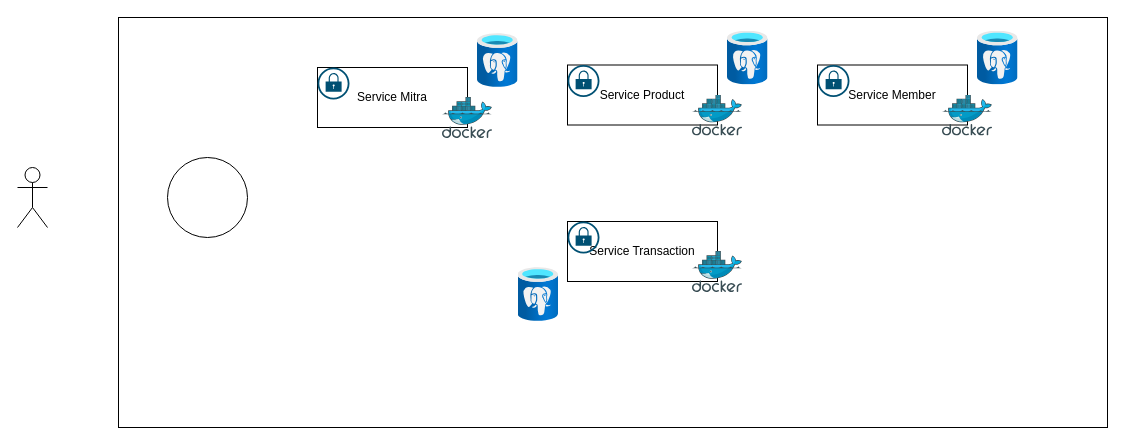
Some shapes in this 1125 by 445 pixel diagram are drawn without their labels. Each missing label, with the centre of its shape:
Actor: the point at 32,197
API GATEAWAY: the point at 207,197
